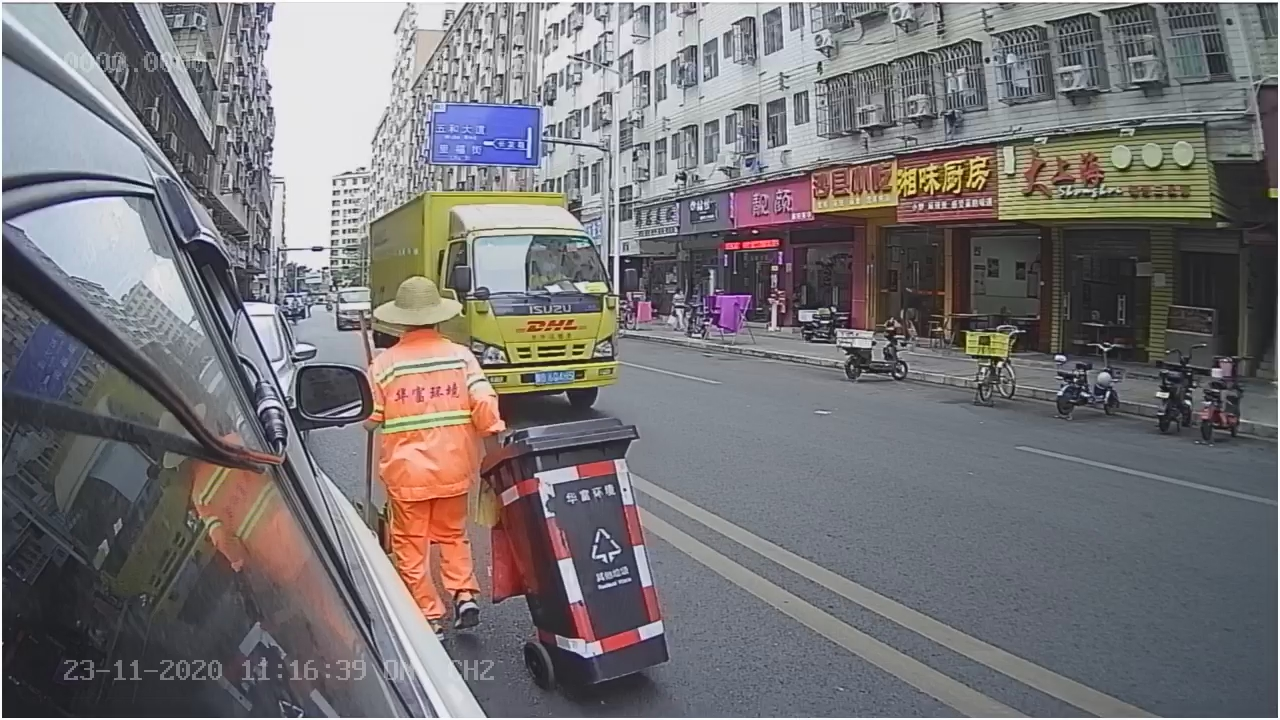person: (370, 268, 507, 447)
